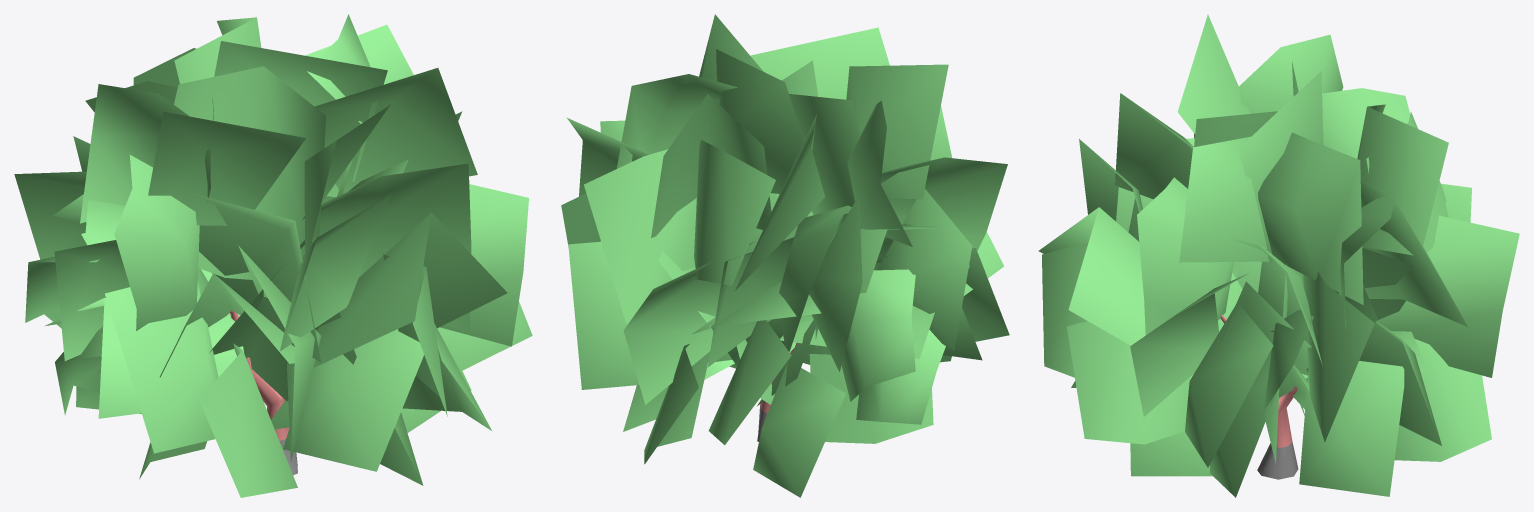
The model's file is Oren_elf_tree07.gltf.
3 renders of one model, left to right at view 1: azimuth 30°, elevation 25°; view 2: azimuth 150°, elevation 25°; view 3: azimuth 270°, elevation 25°, orthographic. The views are drawn at different scales.
Visible parts, largest first — view 1: Oren_elf_tree07; view 2: Oren_elf_tree07; view 3: Oren_elf_tree07.
Part boxes in pixels (x1=…): Oren_elf_tree07: x1=14, y1=14, x2=532, y2=497; Oren_elf_tree07: x1=561, y1=14, x2=1009, y2=497; Oren_elf_tree07: x1=1038, y1=14, x2=1519, y2=497.
Size of the model in its own units: 9.39 by 8.68 by 9.76.
